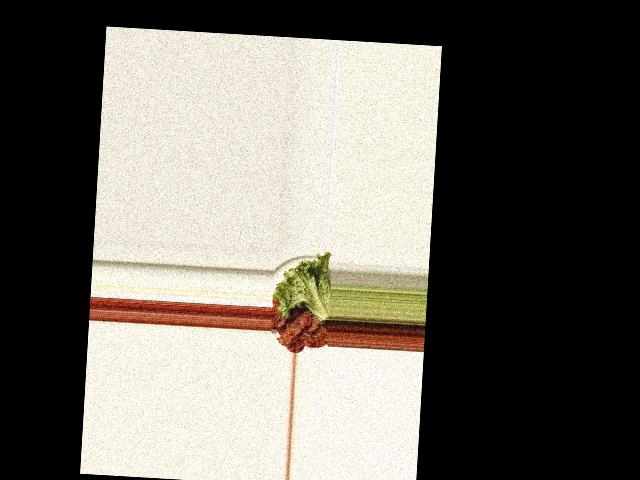lettuce: (273, 252, 333, 320)
